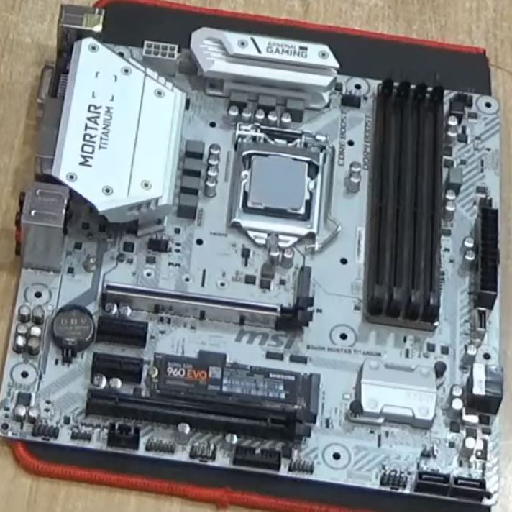CPU: (226, 136, 331, 251)
GPU: (85, 387, 312, 446), (99, 278, 316, 337)
MOTHERBOARD: (7, 15, 504, 507)
RAM: (364, 82, 447, 324)
SSD: (296, 367, 322, 413), (291, 265, 315, 306)
